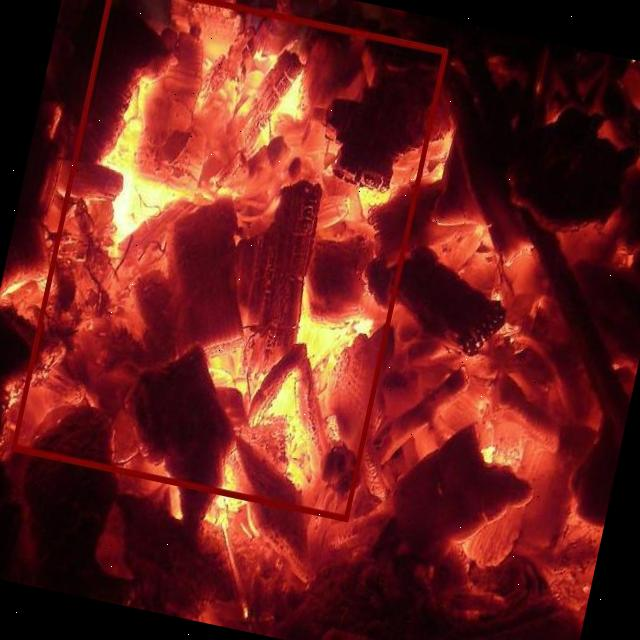fire: (10, 0, 447, 520)
